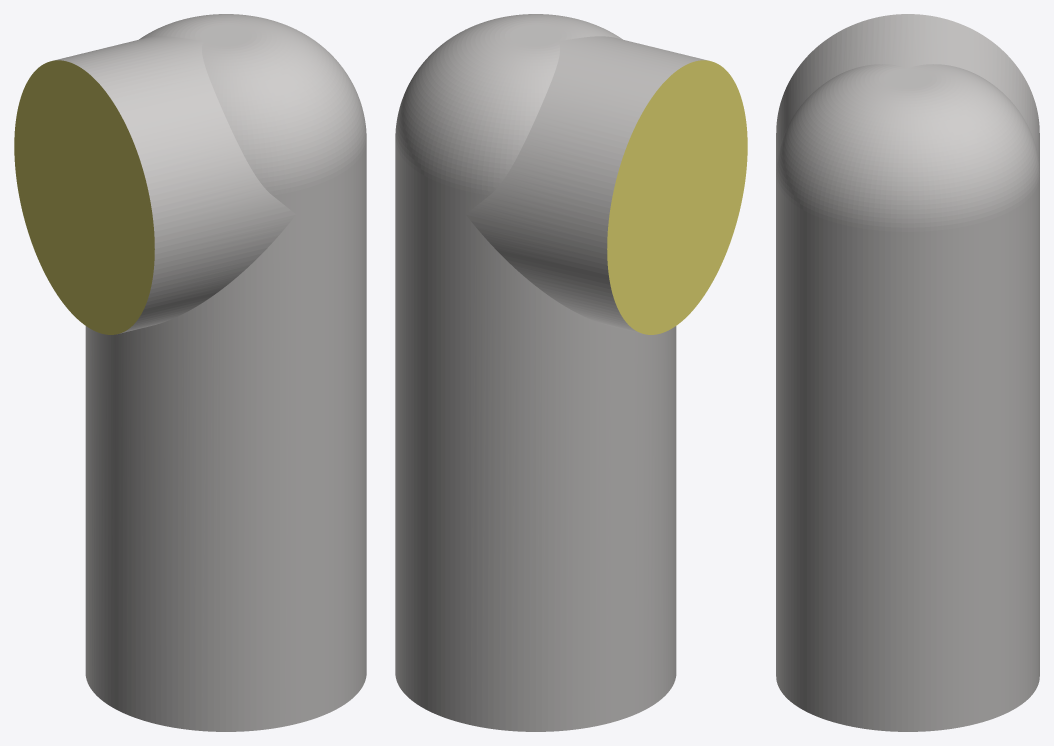
Rendered from arm2.dae.
3 renders of one model, left to right at view 1: azimuth 30°, elevation 25°; view 2: azimuth 150°, elevation 25°; view 3: azimuth 270°, elevation 25°, orthographic. The views are drawn at different scales.
Visible parts, largest first — view 1: Arm2; view 2: Arm2; view 3: Arm2.
Boxes of the visible parts, x1,y1,x2,y2 form: Arm2: (14, 14, 366, 731); Arm2: (395, 14, 747, 731); Arm2: (776, 14, 1039, 731).
Size of the model in its own units: 0.1327 by 0.1227 by 0.3067.
2 materials, 2 textured.
